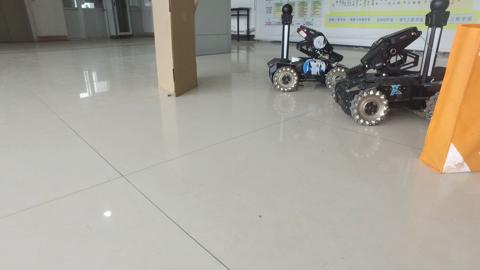box: (152, 2, 195, 97)
chariot: (324, 1, 446, 126), (266, 4, 340, 92)
